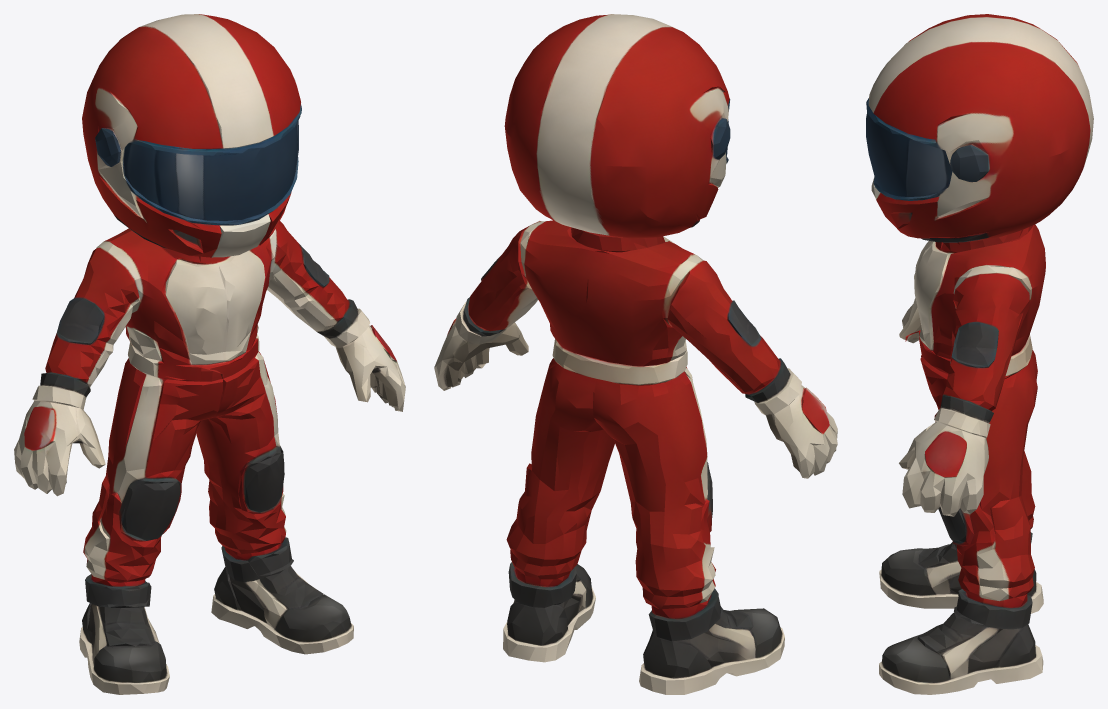
The model's file is crimson-driver-raw.glb.
The picture shows the model from 3 angles, left to right: view 1: azimuth 30°, elevation 25°; view 2: azimuth 150°, elevation 25°; view 3: azimuth 270°, elevation 25°; orthographic projection. The views are drawn at different scales.
Parts seen in each view (by area): view 1: model; view 2: model; view 3: model.
Boxes of the visible parts, x1,y1,x2,y2 form: model: [14, 14, 405, 694]; model: [434, 14, 837, 694]; model: [866, 14, 1093, 694].
Size of the model in its own units: 1.21 by 1.9 by 0.6392.
Materials: 1 (1 with a texture image).
